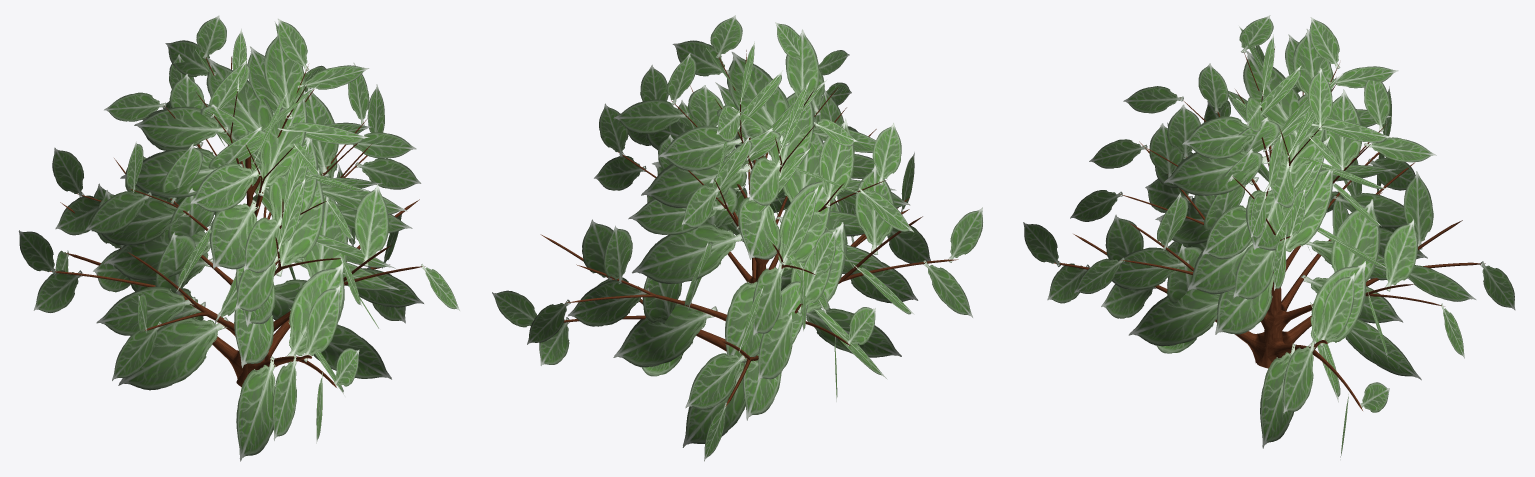
File: bush_george.fbx
The picture shows the model from 3 angles, left to right: view 1: azimuth 30°, elevation 25°; view 2: azimuth 150°, elevation 25°; view 3: azimuth 270°, elevation 25°; orthographic projection. The views are drawn at different scales.
Visible parts, largest first — view 1: hardy_leaf01_1, bark01_albedo_0; view 2: hardy_leaf01_1, bark01_albedo_0; view 3: hardy_leaf01_1, bark01_albedo_0.
Part boxes in pixels (bbox=[...]): hardy_leaf01_1: bbox=[18, 15, 459, 461]; bark01_albedo_0: bbox=[50, 56, 425, 387]; hardy_leaf01_1: bbox=[492, 15, 982, 461]; bark01_albedo_0: bbox=[540, 50, 958, 406]; hardy_leaf01_1: bbox=[1023, 15, 1515, 459]; bark01_albedo_0: bbox=[1054, 49, 1485, 410].
Size of the model in its own units: 30.94 by 29.61 by 35.96.
2 materials, 2 textured.
